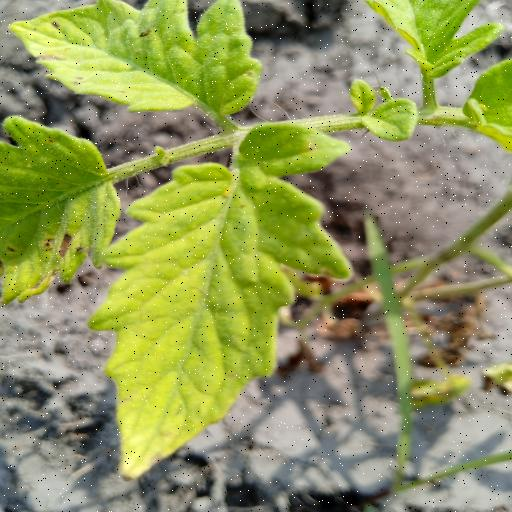Tomato_Brown_Spots: (91, 154, 359, 483)
